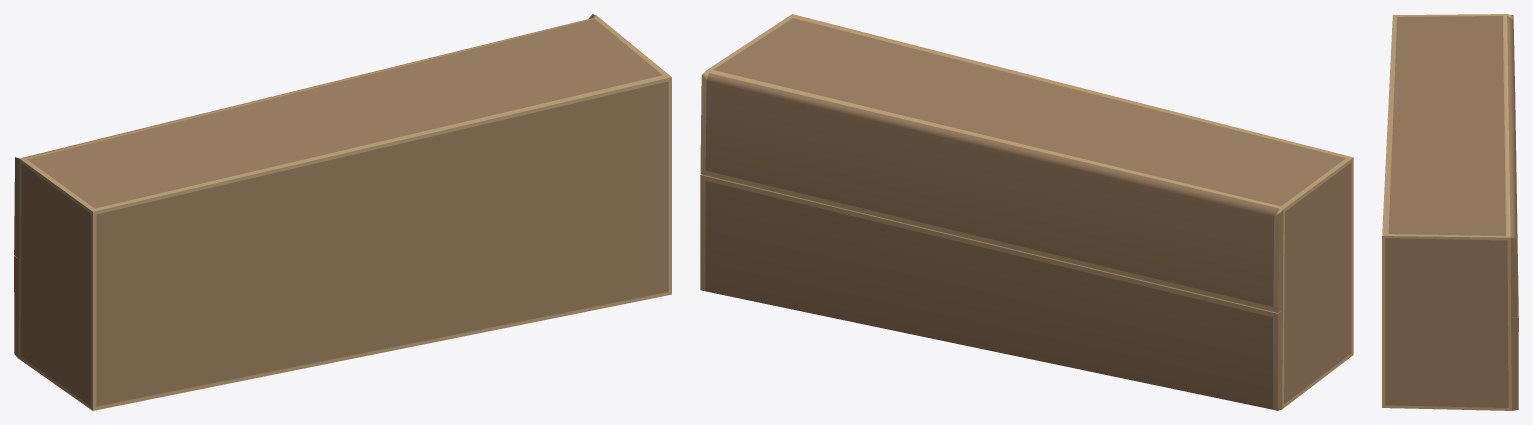
The model's file is BoxJ.fbx.
3 views of the same model, side by side, from view 1: azimuth 30°, elevation 25°; view 2: azimuth 150°, elevation 25°; view 3: azimuth 270°, elevation 25° (orthographic). The views are drawn at different scales.
Parts seen in each view (by area): view 1: BoxJ; view 2: BoxJ; view 3: BoxJ.
Part boxes in pixels (<box>): BoxJ: <box>14,14,671,410</box>; BoxJ: <box>700,14,1353,410</box>; BoxJ: <box>1382,14,1518,410</box>.
Size of the model in its own units: 233 by 84.35 by 60.08.
